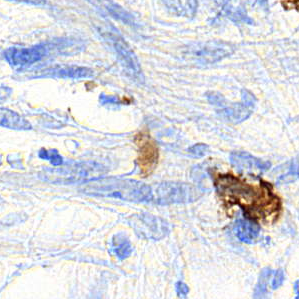Lymphocyte: (214, 173, 283, 226)
